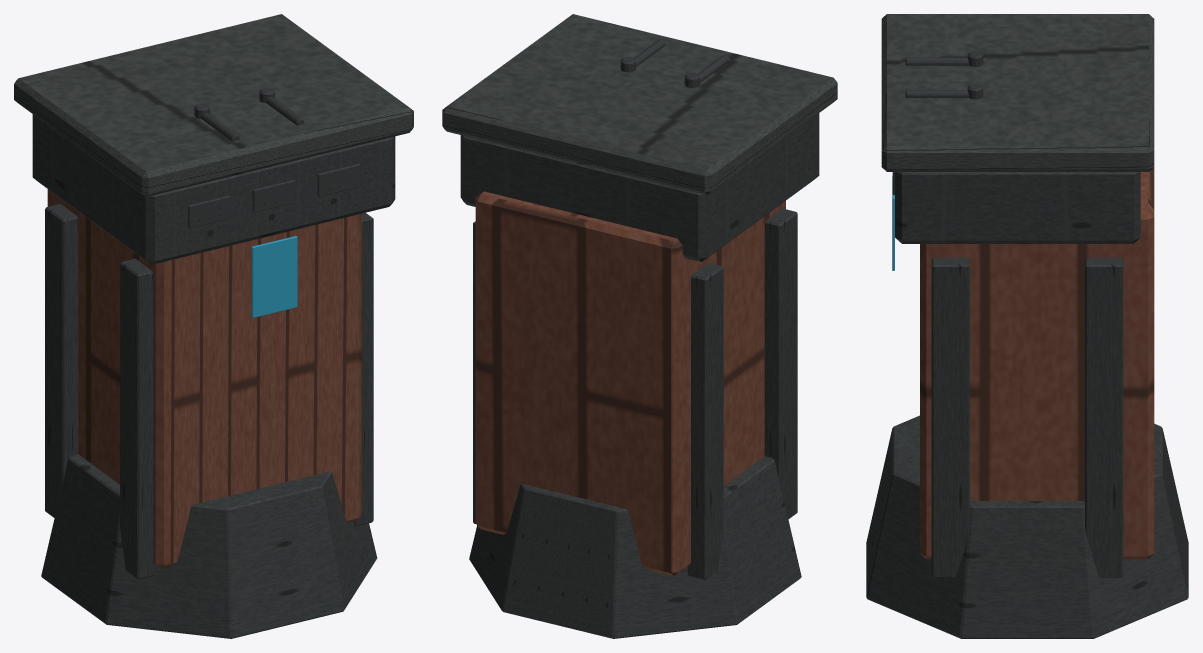
Rendered from edificio-tower-e4-CRQ1He_T.glb.
3 views of the same model, side by side, from view 1: azimuth 30°, elevation 25°; view 2: azimuth 150°, elevation 25°; view 3: azimuth 270°, elevation 25° (orthographic). The views are drawn at different scales.
Visible parts, largest first — view 1: envolvente_torre, team_color, mecanismo_ataque_torre_e4; view 2: envolvente_torre, mecanismo_ataque_torre_e4; view 3: envolvente_torre, mecanismo_ataque_torre_e4.
Part boxes in pixels (x1,y1,x2,y2): envolvente_torre: (14, 14, 413, 638); team_color: (251, 236, 297, 317); mecanismo_ataque_torre_e4: (194, 87, 304, 141); envolvente_torre: (442, 14, 837, 638); mecanismo_ataque_torre_e4: (620, 39, 729, 87); envolvente_torre: (866, 14, 1188, 638); mecanismo_ataque_torre_e4: (905, 51, 983, 99).
Size of the model in its own units: 33.6 by 57.67 by 33.57.
2 materials, 1 textured.
